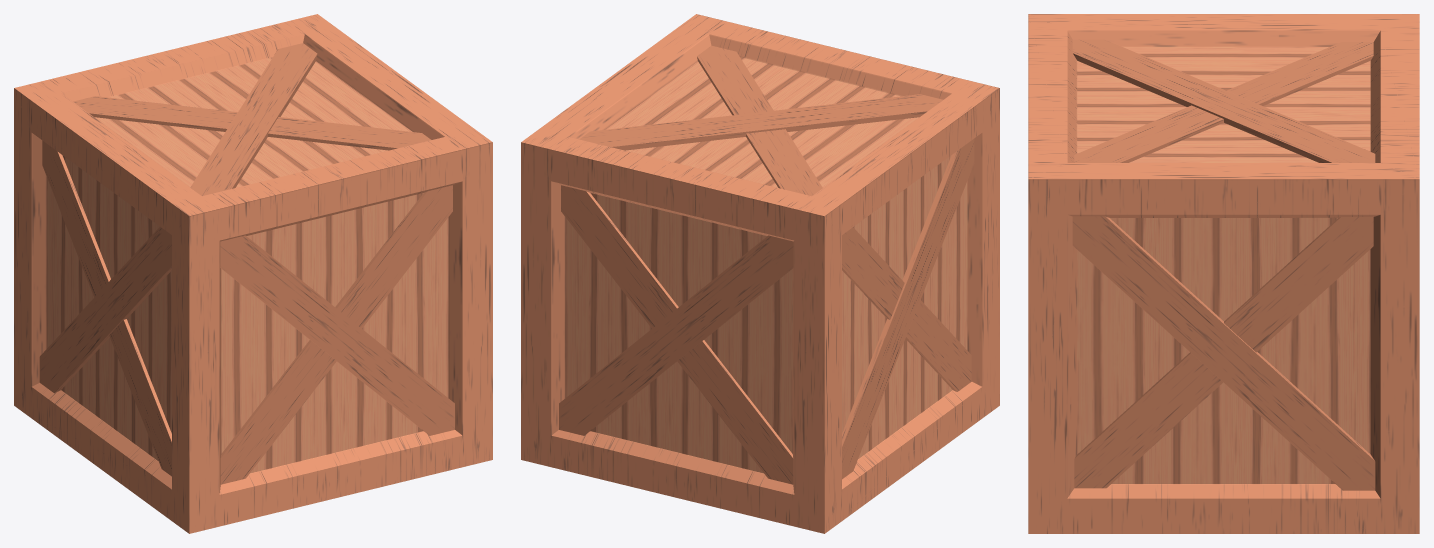
The model's file is Mesh_Crate.fbx.
3 renders of one model, left to right at view 1: azimuth 30°, elevation 25°; view 2: azimuth 150°, elevation 25°; view 3: azimuth 270°, elevation 25°, orthographic. The views are drawn at different scales.
Visible parts, largest first — view 1: Crate; view 2: Crate; view 3: Crate.
Boxes of the visible parts, box(x1,y1,x2,y2) form: Crate: box(14, 14, 492, 533); Crate: box(521, 14, 999, 533); Crate: box(1028, 14, 1419, 533).
Size of the model in its own units: 200 by 200 by 200.
Materials: 1 (1 with a texture image).
